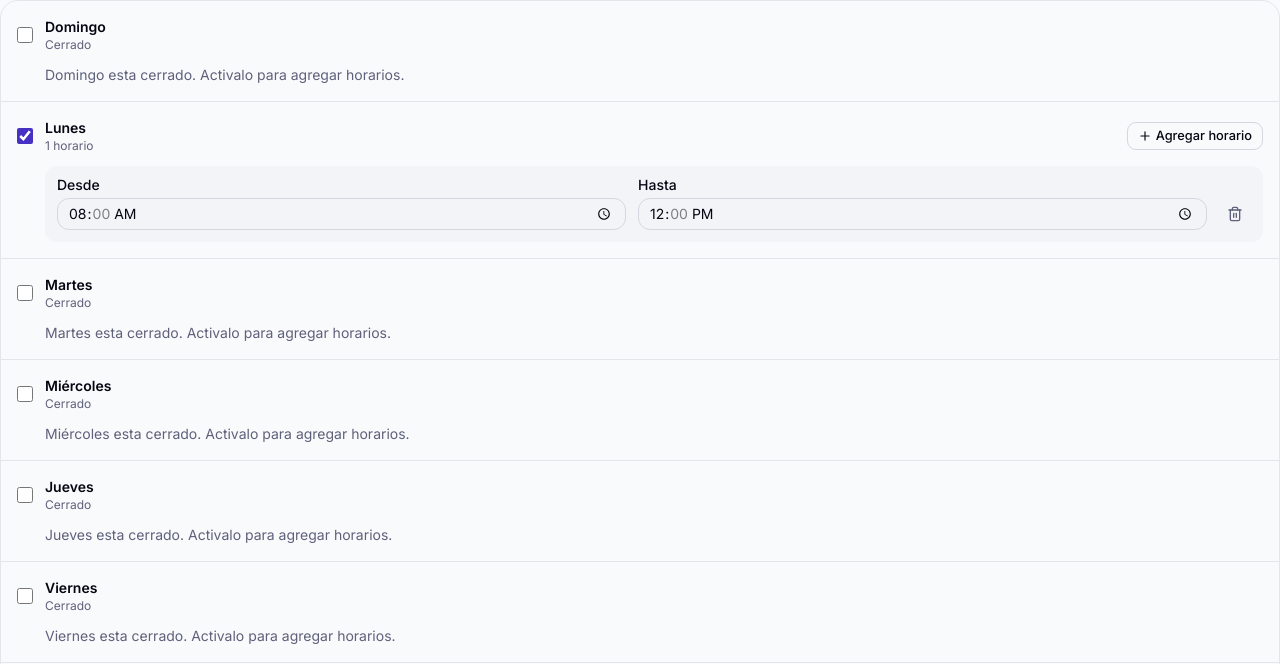
Test: WeeklyAvailabilityEditor › agrega un segundo horario al mismo dia y lo serializa
Click the button with aria-label "agregar horario para lunes": point(1195, 136) [1127,122,1263,150]
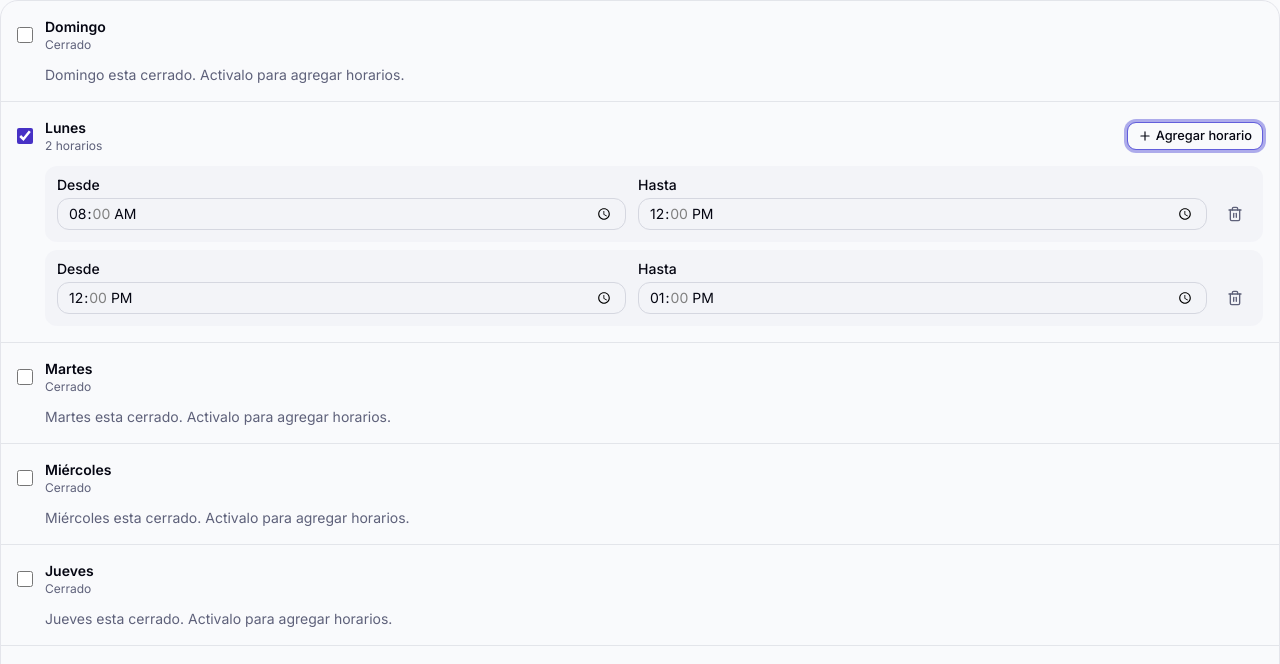
Result: the number of elements with test id "availability-range-1" is 2 at [45,166,1263,242]; [45,250,1263,326]
